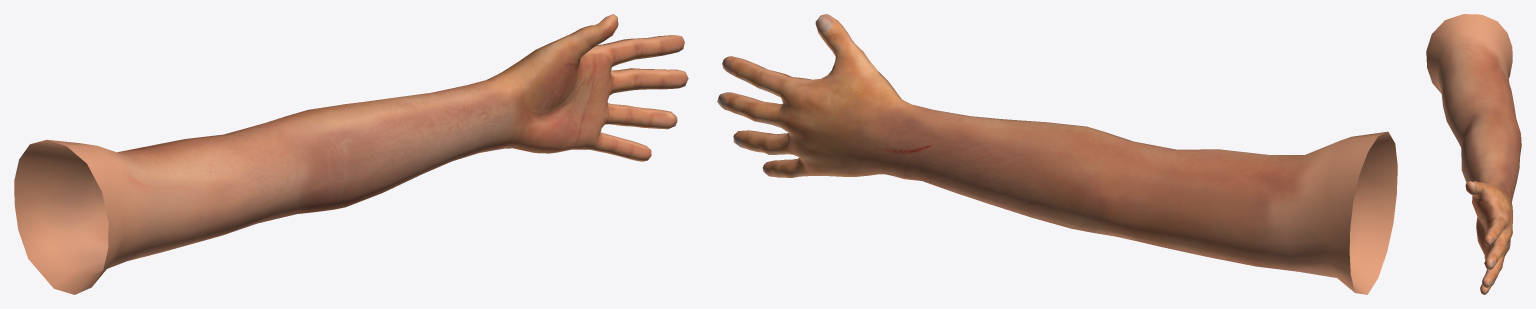
The model's file is lefthand.fbx.
3 renders of one model, left to right at view 1: azimuth 30°, elevation 25°; view 2: azimuth 150°, elevation 25°; view 3: azimuth 270°, elevation 25°, orthographic. The views are drawn at different scales.
Visible parts, largest first — view 1: hands_all; view 2: hands_all; view 3: hands_all.
Part boxes in pixels (<box>): hands_all: <box>14,14,688,294</box>; hands_all: <box>717,14,1397,294</box>; hands_all: <box>1426,14,1521,294</box>.
Size of the model in its own units: 70.1 by 17.62 by 14.6.
